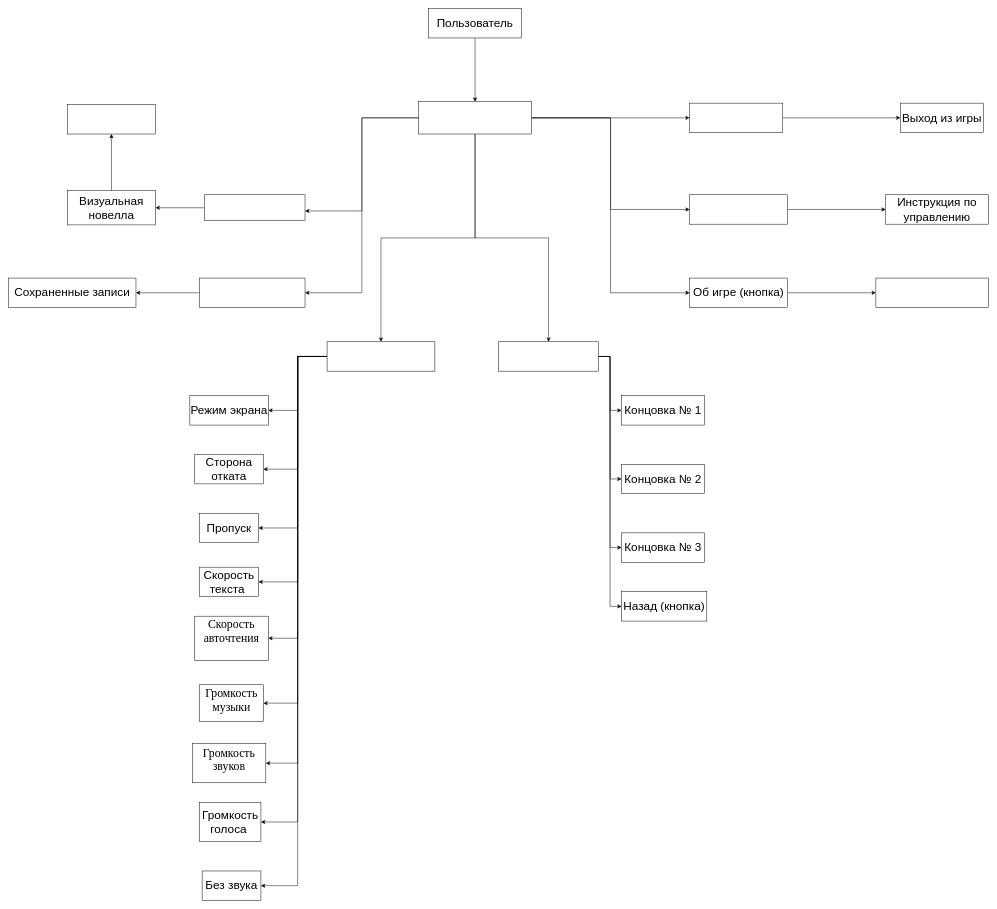
Image size: 997x909. Some labels were removed from this diagram. Here are the shapes that lost their labels. From the top down, the centre of each, then its label:
At (111,119): "Выбор диалогов".
At (474,117): "Главное меню".
At (736,118): "Выход (кнопка)".
At (254,207): "Начать (кнопка)".
At (738,209): "Помощь (кнопка)".
At (252,292): "Загрузить (кнопка)".
At (932,292): "Информация об игре".
At (381,356): "Настройки (кнопка)".
At (548,356): "Галерея (кнопка)".
